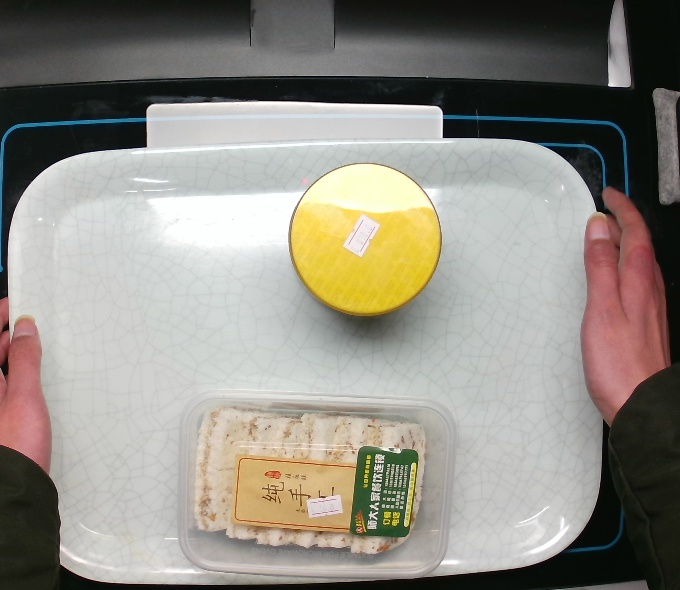wcq-GuiHuaGao: (176, 389, 459, 582)
wcq-MaiYaTang: (285, 160, 444, 317)
